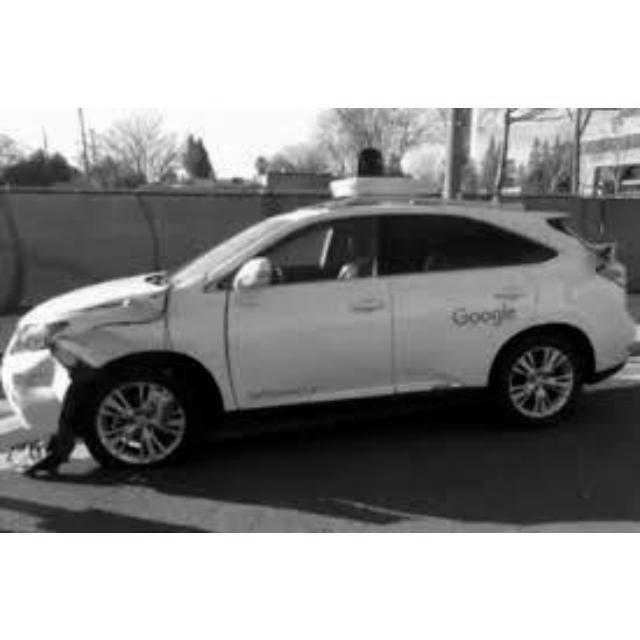fender-dent: (62, 305, 171, 351)
front-bumper-dent: (0, 351, 60, 423)
